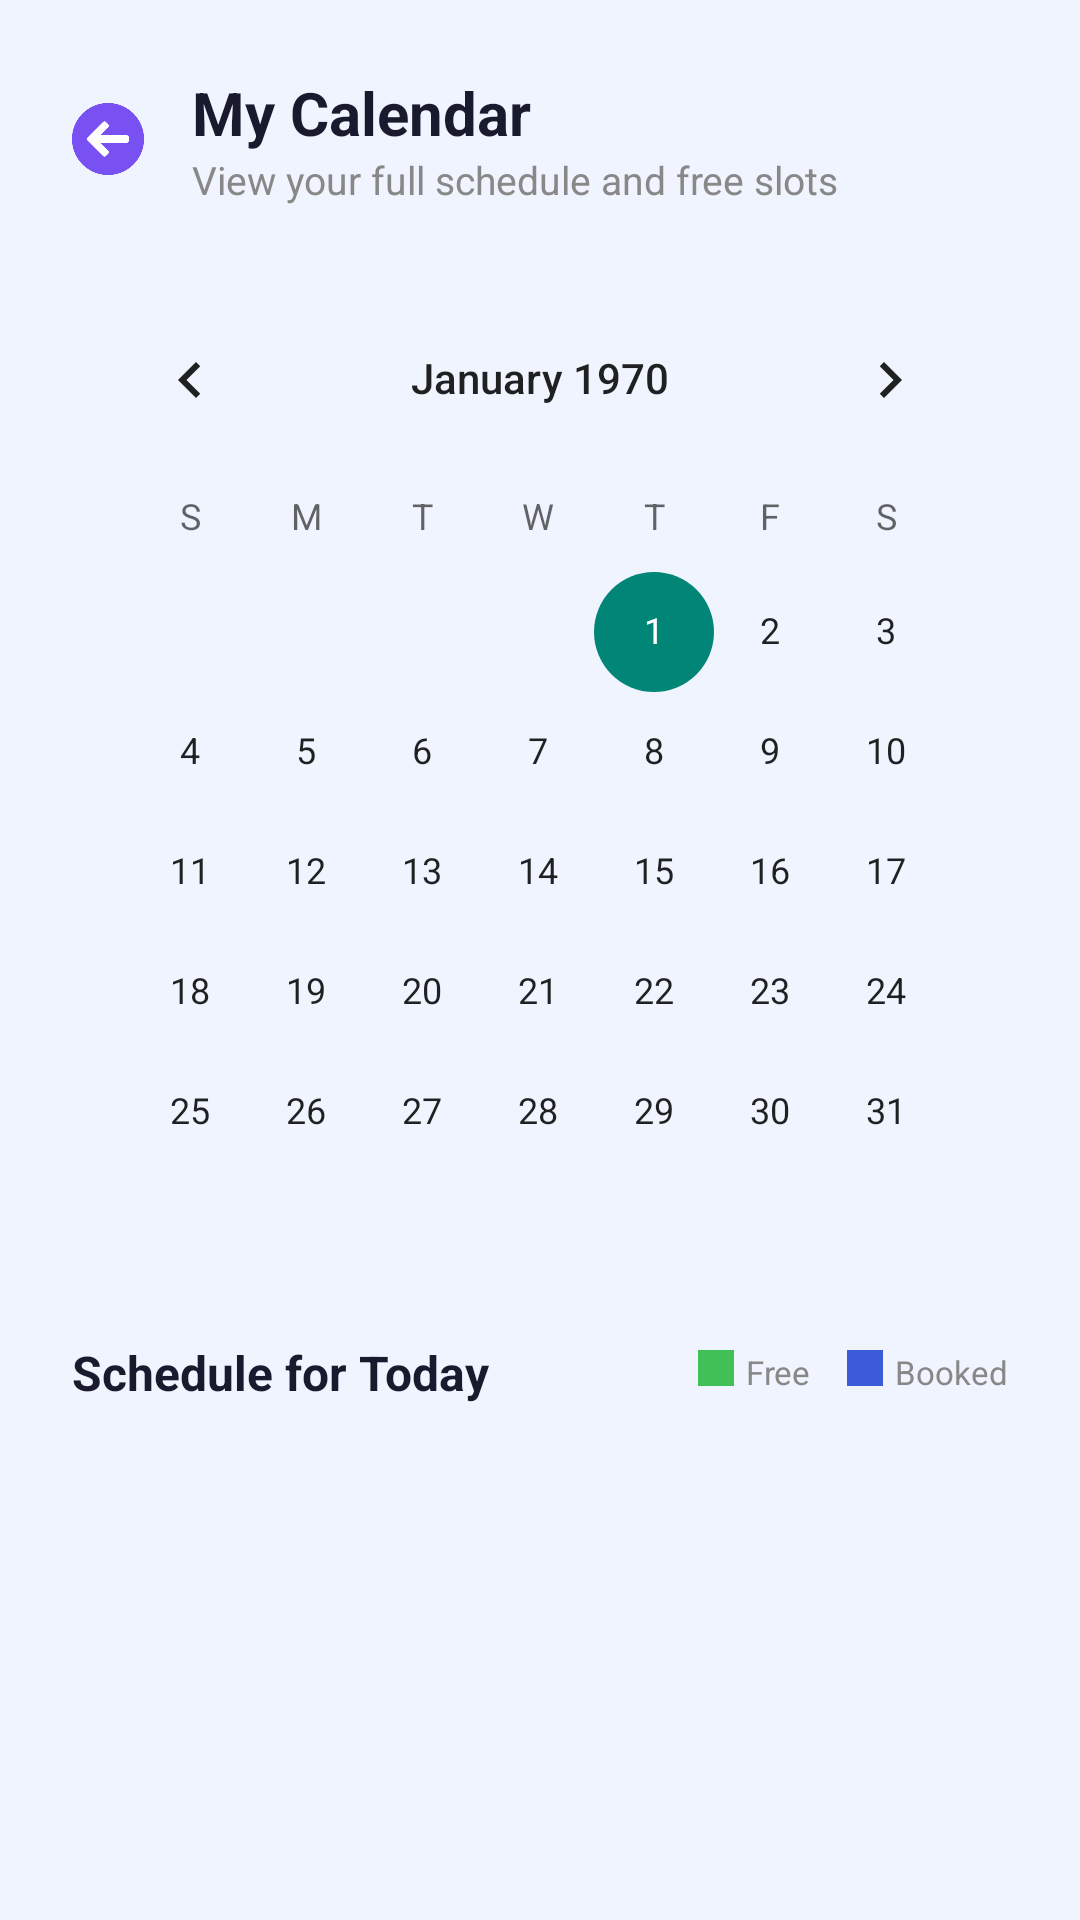

Where to tap for icons on this 1080*1920 app screen, as [x,y]:
back arrow: [108,139]
